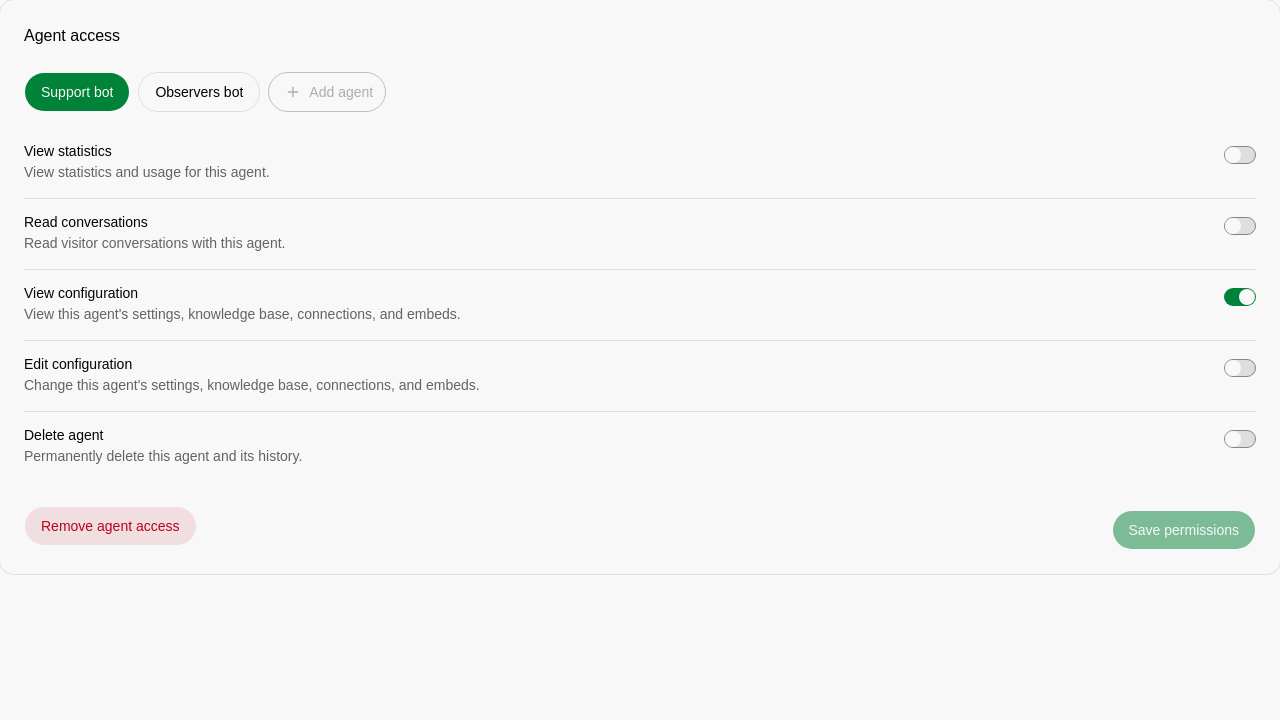
Test: RoleAccessCard › preserves each agent's draft while showing only the selected agent's permissions
Step 1. Click the switch named "Edit configuration" → (1240, 368), box [1224, 359, 1256, 377]
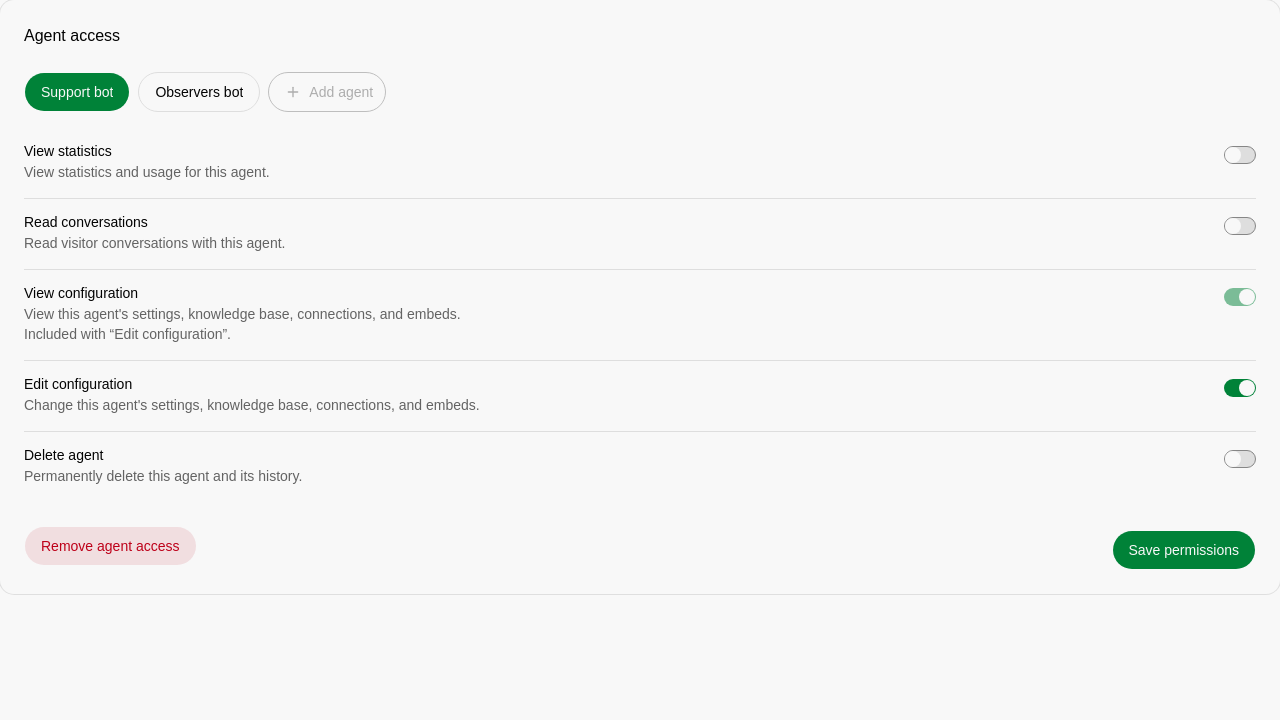
Step 2. Click the button "Observers bot" → (199, 92), box [138, 72, 260, 112]
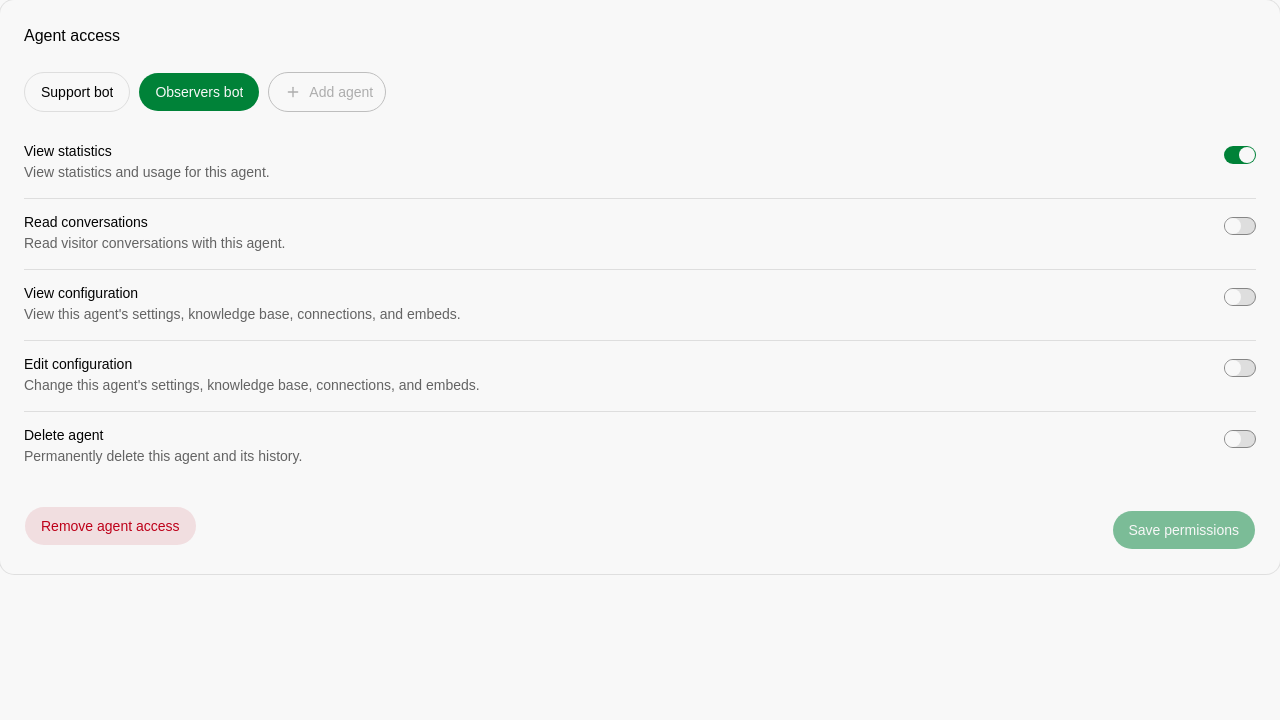
expect the switch named "View statistics" is checked: met, box [1224, 146, 1256, 164]
expect the switch named "Edit configuration" is not checked: met, box [1224, 359, 1256, 377]
Step 3. Click the button "Support bot" → (77, 92), box [24, 72, 130, 112]
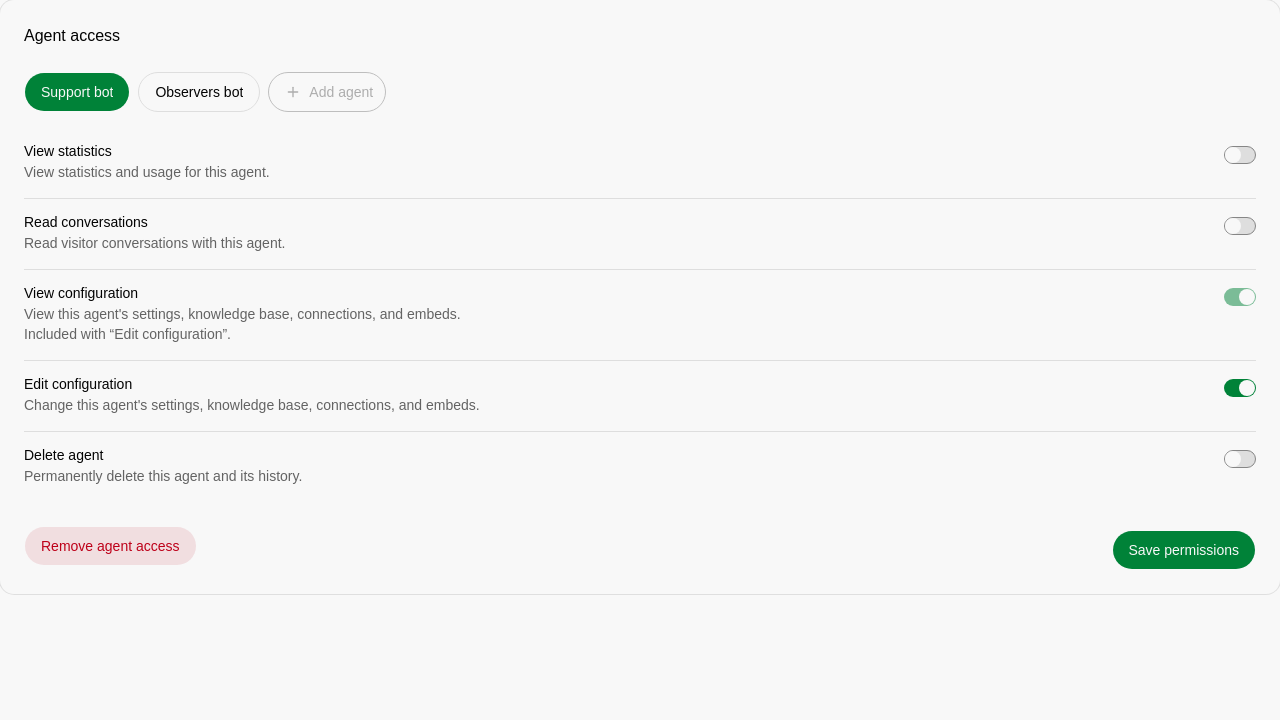
expect the switch named "Edit configuration" is checked: met
Step 4. Click the switch named "Edit configuration" → (1240, 388), box [1224, 379, 1256, 397]
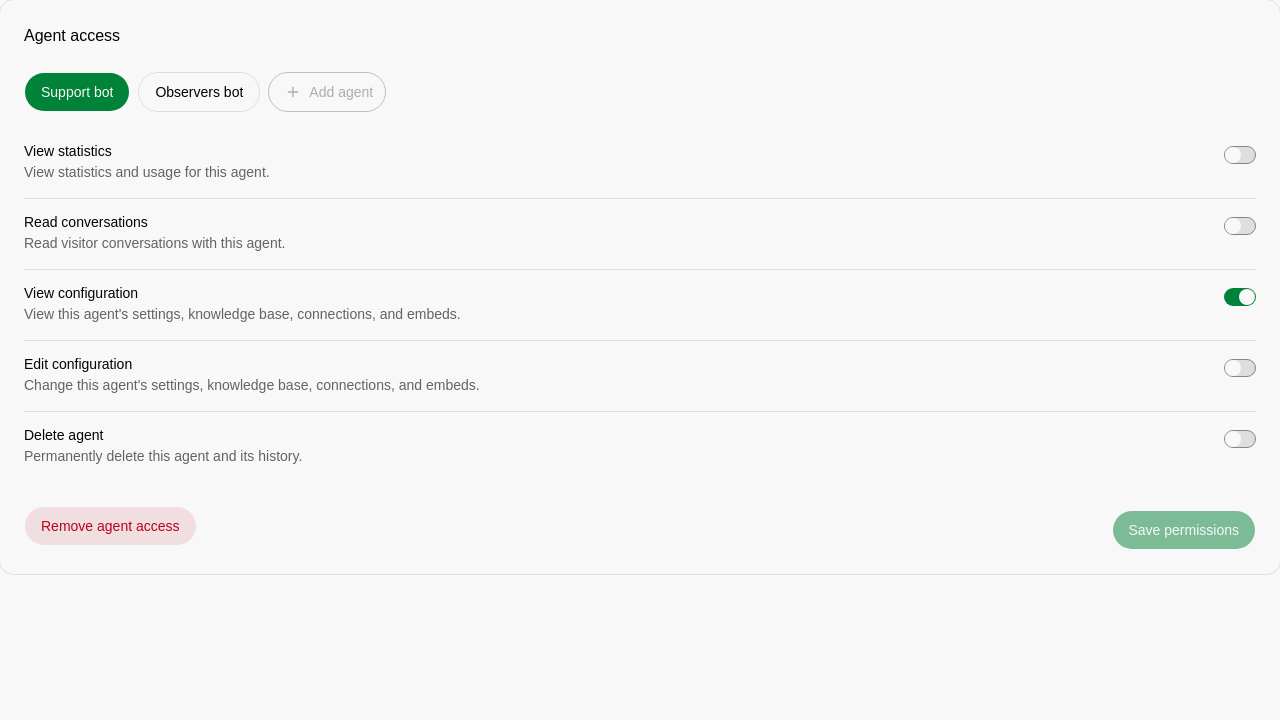
Step 5. Click the switch named "Delete agent" → (1240, 439), box [1224, 430, 1256, 448]
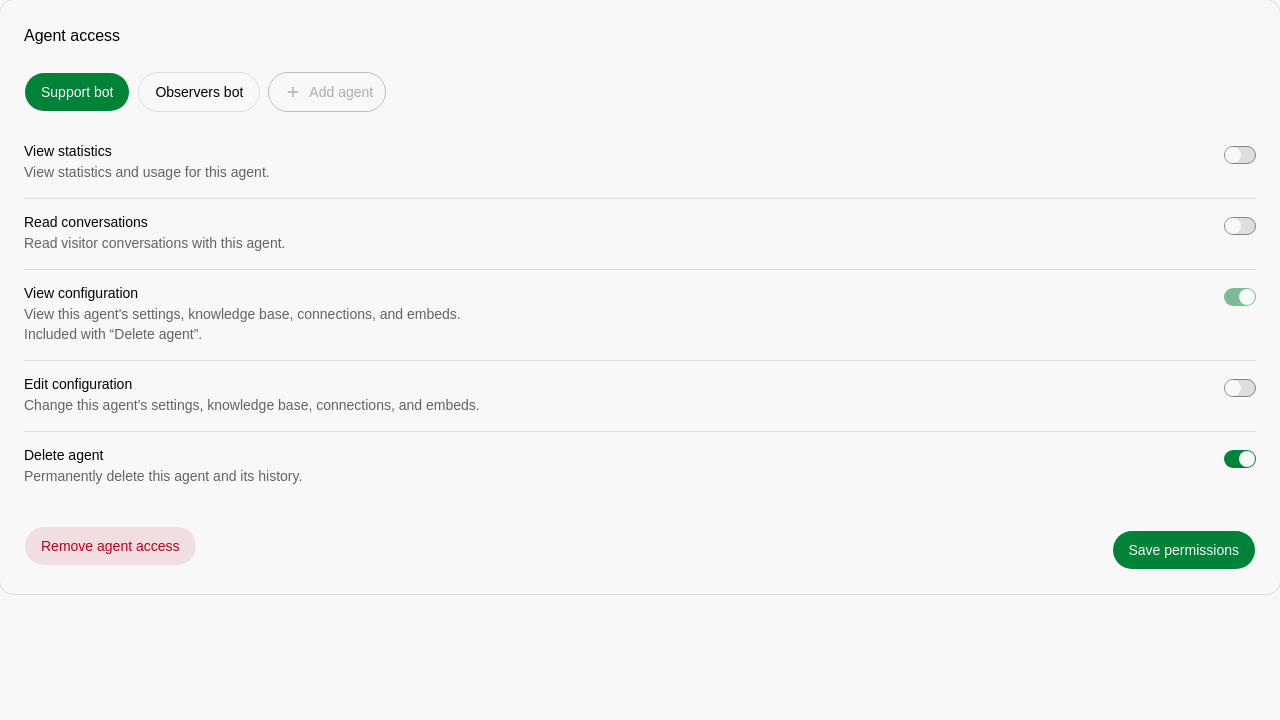
expect the switch named "View configuration" is disabled: met, box [1224, 288, 1256, 306]
